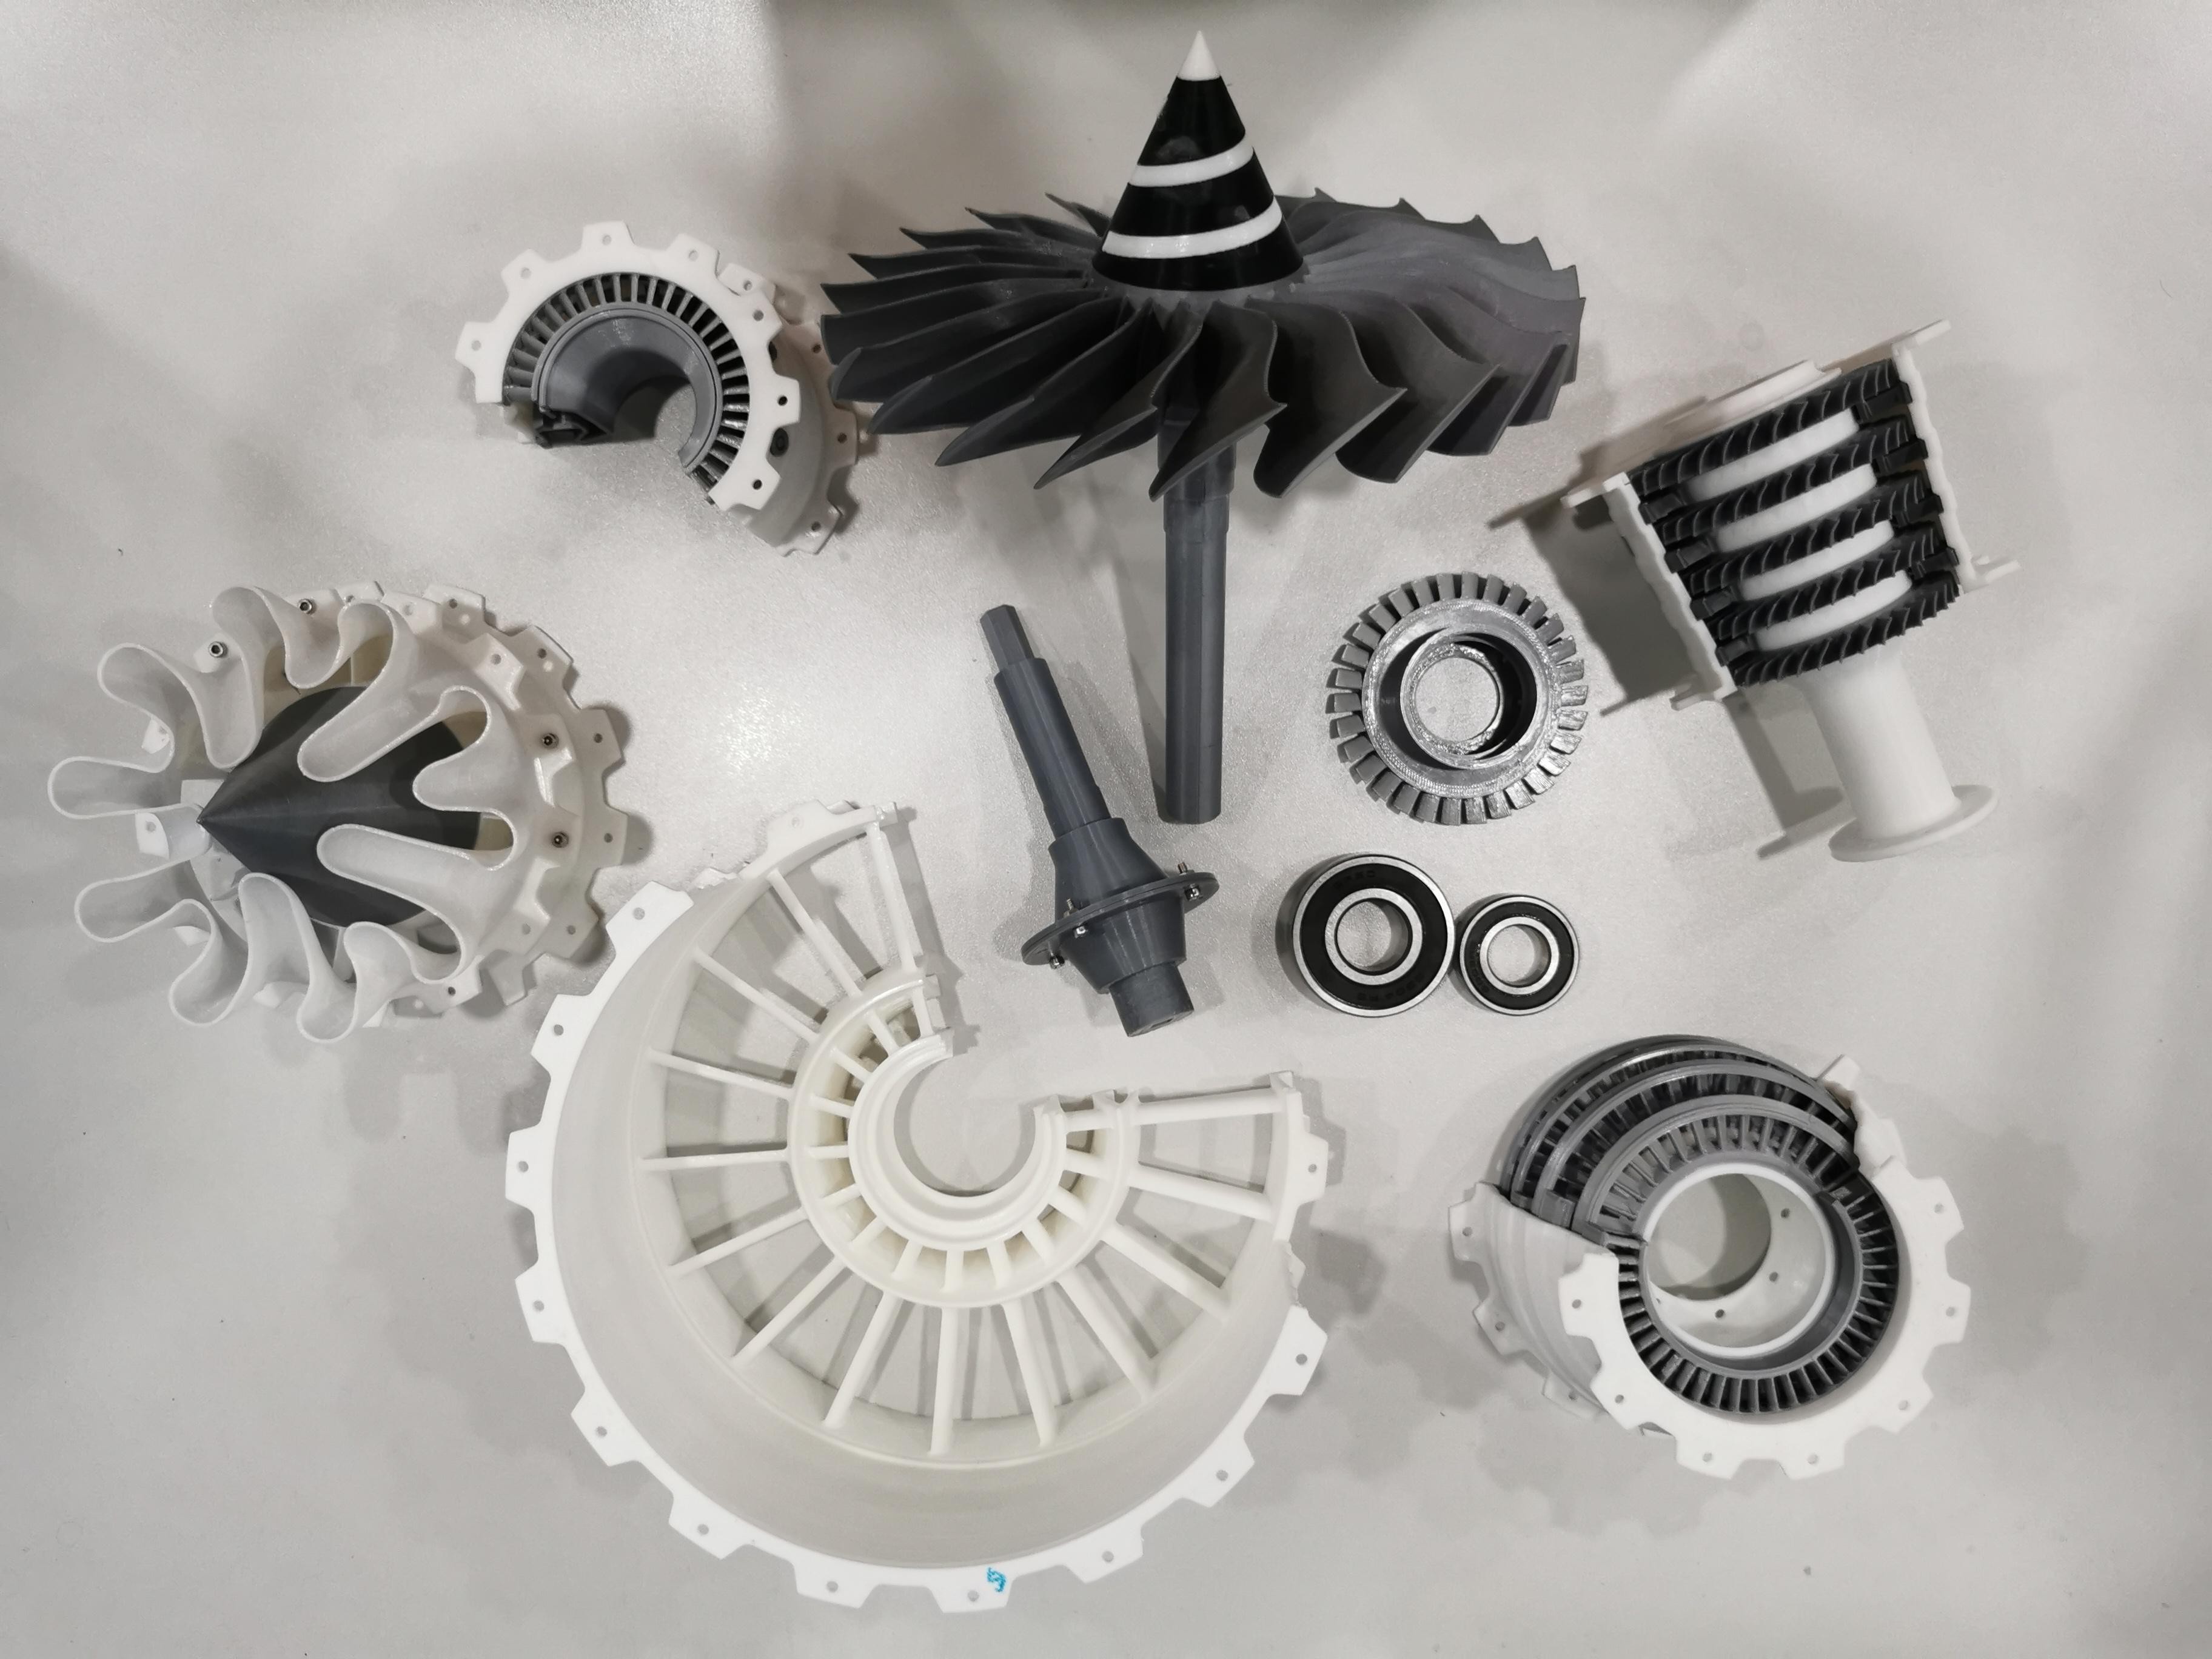Bearing-6003: (1458, 890, 1585, 1019)
Bearing-6204: (1289, 850, 1458, 1028)
Combustion Section: (444, 211, 873, 563)
Fan Casing and Support: (488, 789, 1339, 1621)
Fan and Low Pressure Shaft: (819, 23, 1588, 835)
HPT Section: (1312, 554, 1606, 840)
High Pressure Spool: (1552, 312, 2024, 870)
LPT Section: (1446, 1025, 1982, 1485)
Low Pressure Spool: (972, 589, 1233, 1042)
Nozzle Section: (31, 570, 636, 1056)
